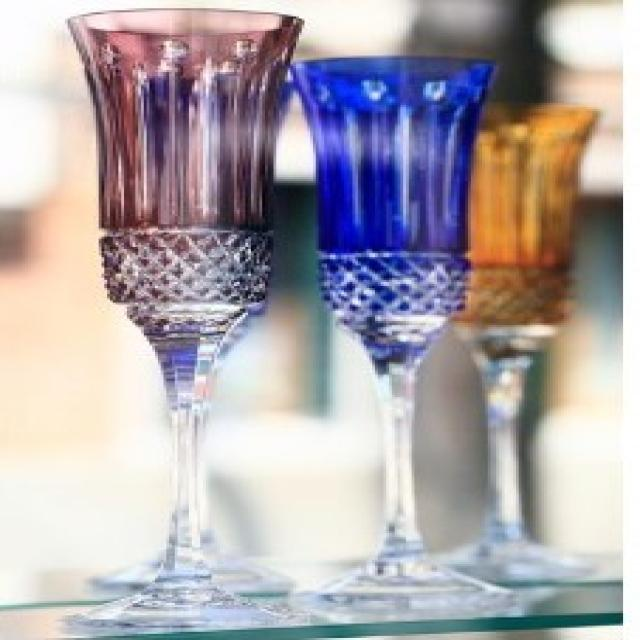electronic: (68, 5, 599, 632)
